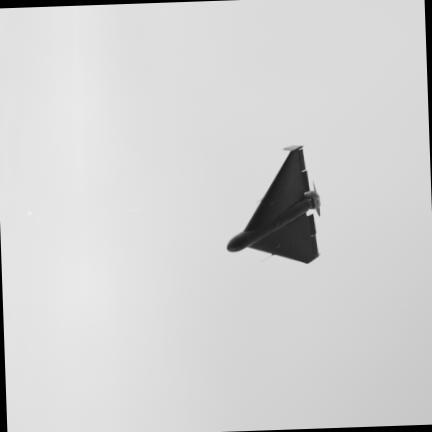Shahed: (226, 142, 322, 262)
